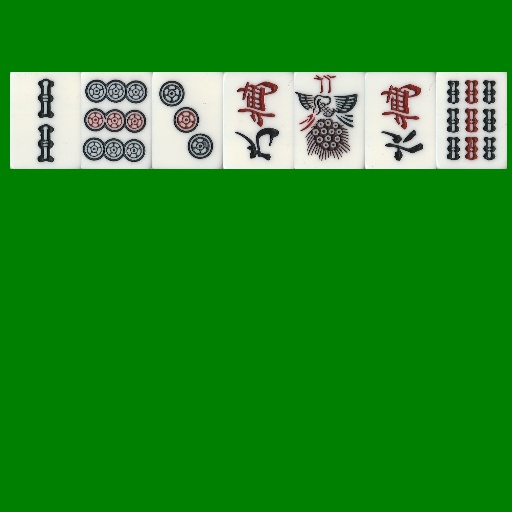1s: (294, 72, 365, 169)
2s: (10, 72, 81, 169)
3p: (152, 72, 223, 169)
6m: (365, 72, 436, 169)
9m: (223, 72, 294, 169)
9p: (81, 72, 152, 169)
9s: (436, 72, 507, 169)
